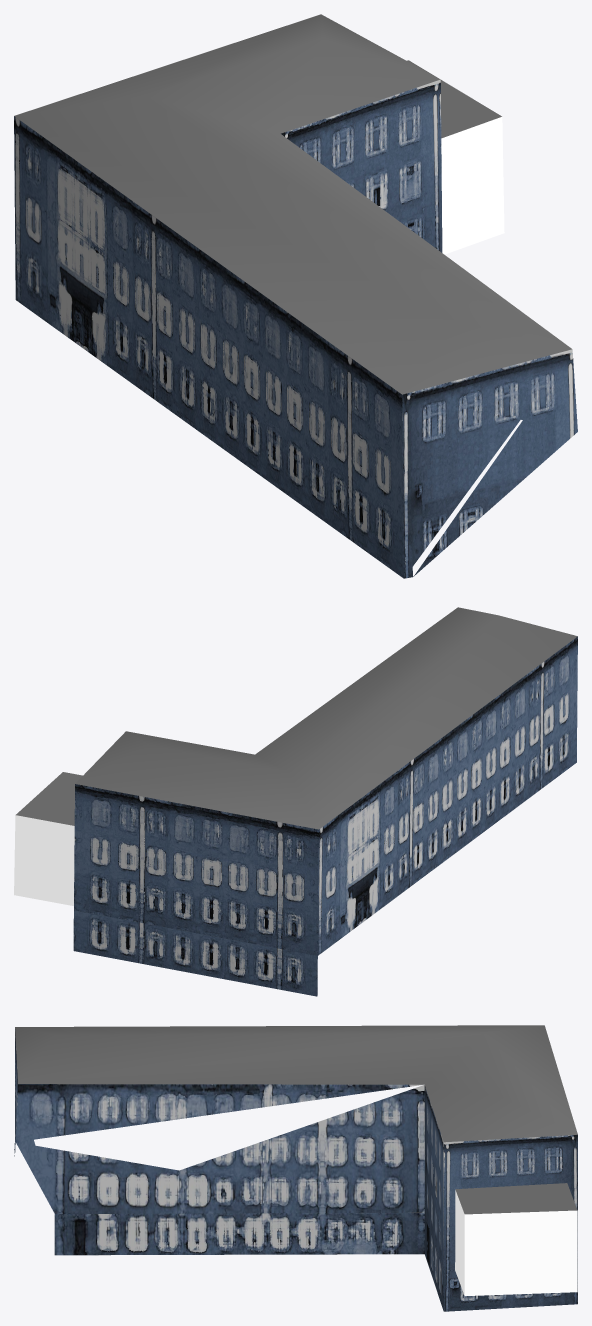
File: Toepler-Bau.gltf
3 renders of one model, top to bottom at view 1: azimuth 30°, elevation 25°; view 2: azimuth 150°, elevation 25°; view 3: azimuth 270°, elevation 25°, orthographic. The views are drawn at different scales.
Visible parts, largest first — view 1: Dach.1; view 2: Dach.1; view 3: Dach.1.
Part boxes in pixels (x1,y1,x2,y2): Dach.1: [14, 14, 577, 578]; Dach.1: [14, 607, 577, 996]; Dach.1: [14, 1025, 577, 1311].
Bounding box in the file's own units: 38.09 × 23.23 × 62.14.
11 materials, 9 textured.
